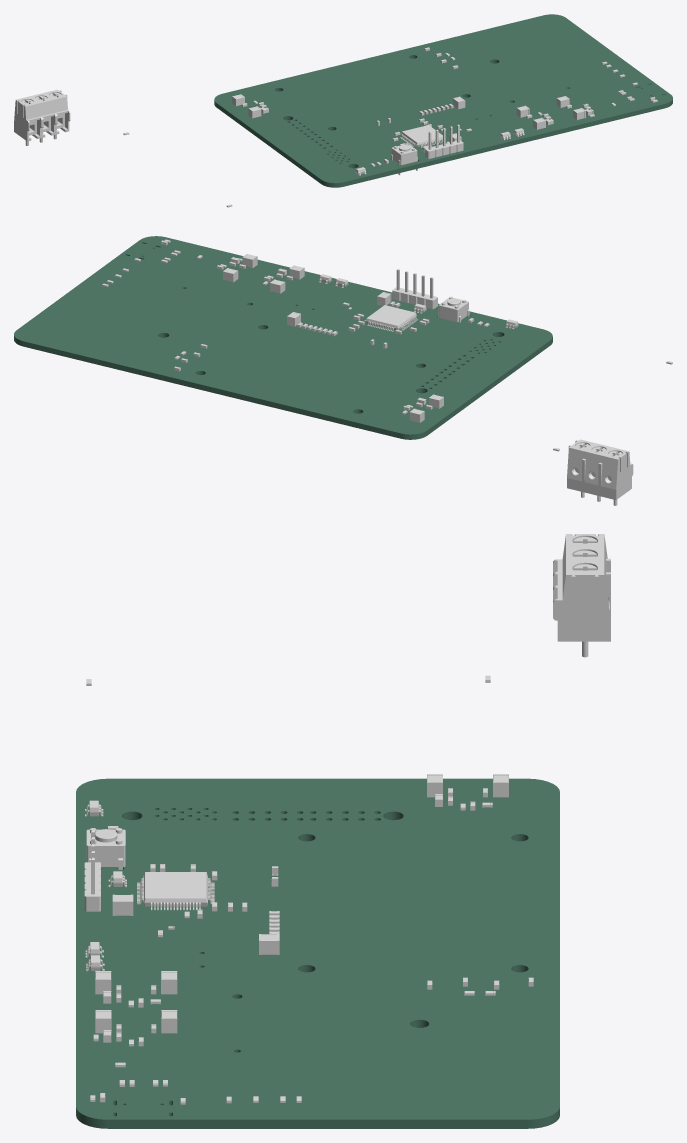
File: nautilus_mainboard-3D.glb
3 renders of one model, top to bottom at view 1: azimuth 30°, elevation 25°; view 2: azimuth 150°, elevation 25°; view 3: azimuth 270°, elevation 25°, orthographic. The views are drawn at different scales.
Visible parts, largest first — view 1: =>[0:1:1:13], J5, J4, IC1, SW1; view 2: =>[0:1:1:13], J5, J4, IC1, SW1; view 3: =>[0:1:1:13], J5, IC1, SW1, J4.
Boxes of the visible parts, left/top/right/bottom form: =>[0:1:1:13]: left=214, top=14, right=672, bottom=187; J5: left=14, top=89, right=70, bottom=145; J4: left=425, top=124, right=463, bottom=160; IC1: left=400, top=125, right=442, bottom=147; SW1: left=391, top=143, right=417, bottom=175; =>[0:1:1:13]: left=14, top=236, right=552, bottom=439; J5: left=567, top=439, right=633, bottom=505; J4: left=392, top=269, right=437, bottom=309; IC1: left=364, top=305, right=417, bottom=331; SW1: left=438, top=296, right=469, bottom=322; =>[0:1:1:13]: left=76, top=778, right=559, bottom=1128; J5: left=553, top=534, right=610, bottom=657; IC1: left=137, top=872, right=214, bottom=910; SW1: left=86, top=828, right=125, bottom=869; J4: left=84, top=830, right=100, bottom=911.
Bounding box in the file's own units: 0.19 × 0.015 × 0.0829.
